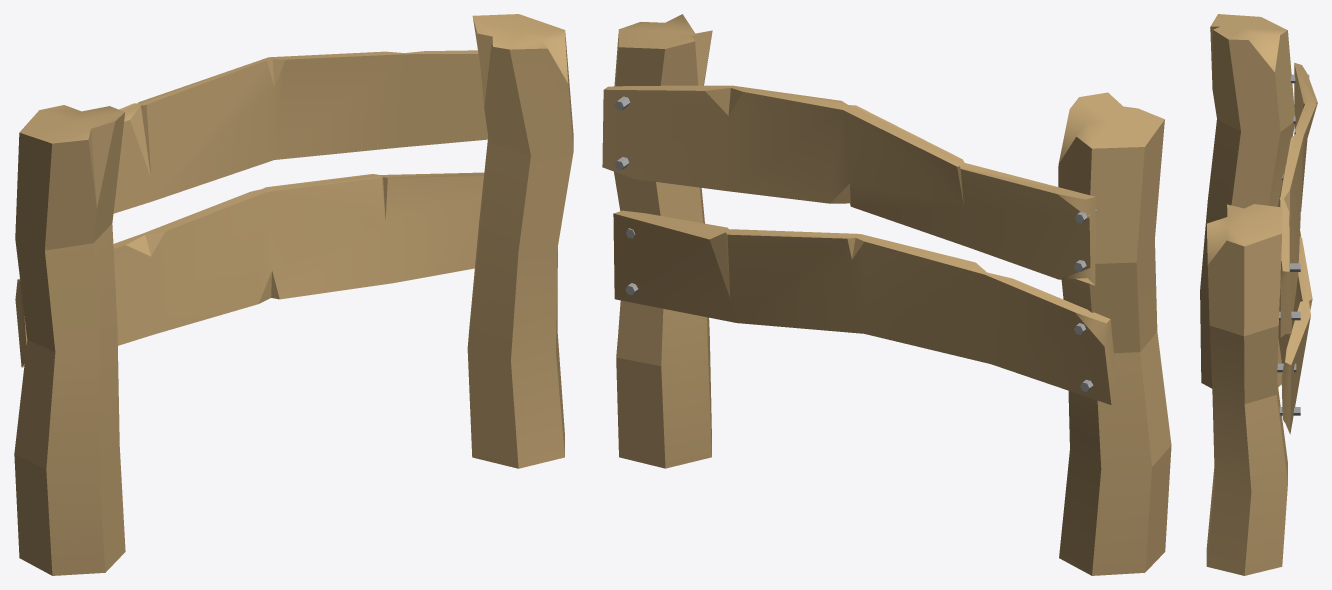
File: maya2sketchfab.fbx
3 views of the same model, side by side, from view 1: azimuth 30°, elevation 25°; view 2: azimuth 150°, elevation 25°; view 3: azimuth 270°, elevation 25° (orthographic). The views are drawn at different scales.
Visible parts, largest first — view 1: pCylinder12; view 2: pCylinder12; view 3: pCylinder12.
Part boxes in pixels (x1=…): pCylinder12: x1=14, y1=14, x2=573, y2=575; pCylinder12: x1=602, y1=14, x2=1171, y2=575; pCylinder12: x1=1200, y1=14, x2=1317, y2=575.
Bounding box in the file's own units: 11.85 × 9.1 × 2.7.
